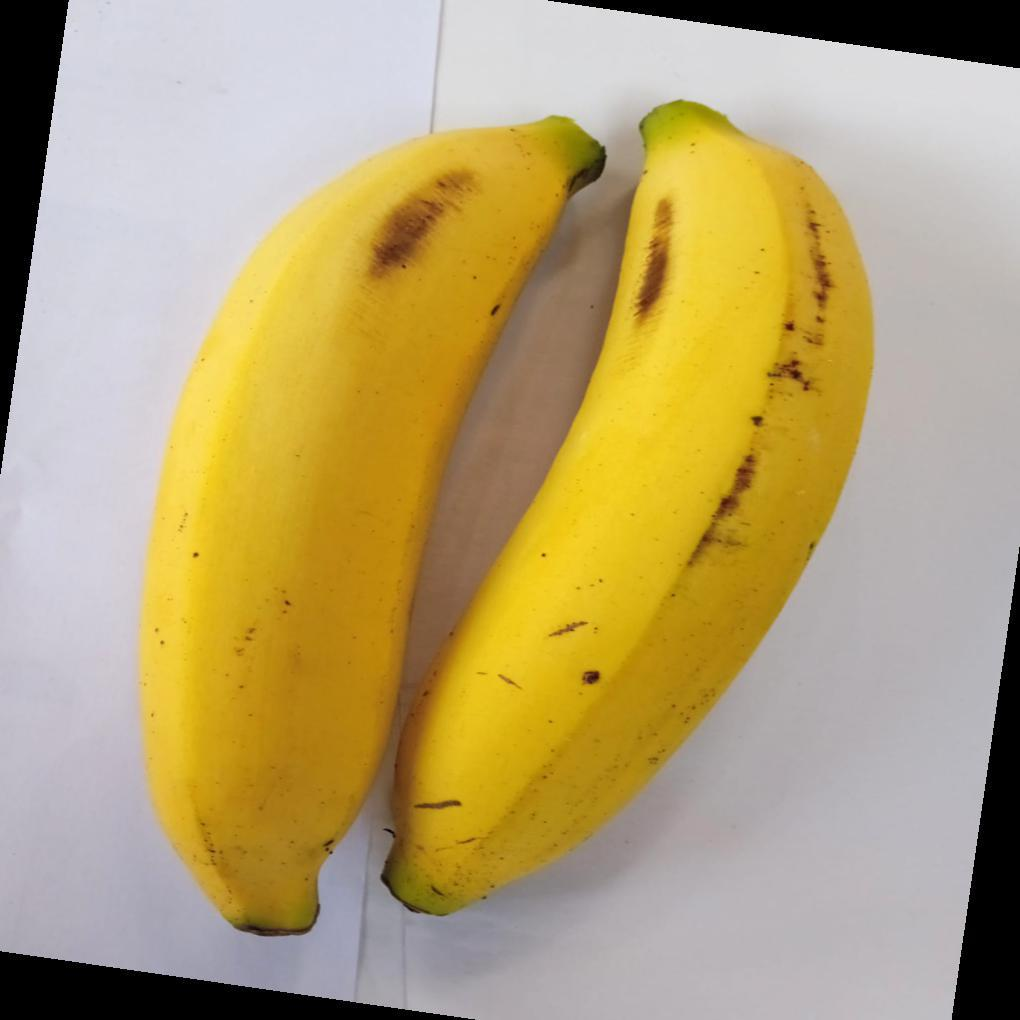Banana Ripe: (157, 35, 934, 1020), (398, 51, 956, 997), (105, 56, 617, 960)
